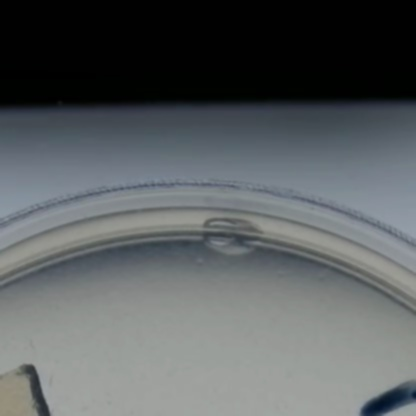worm: (44, 371, 60, 389)
